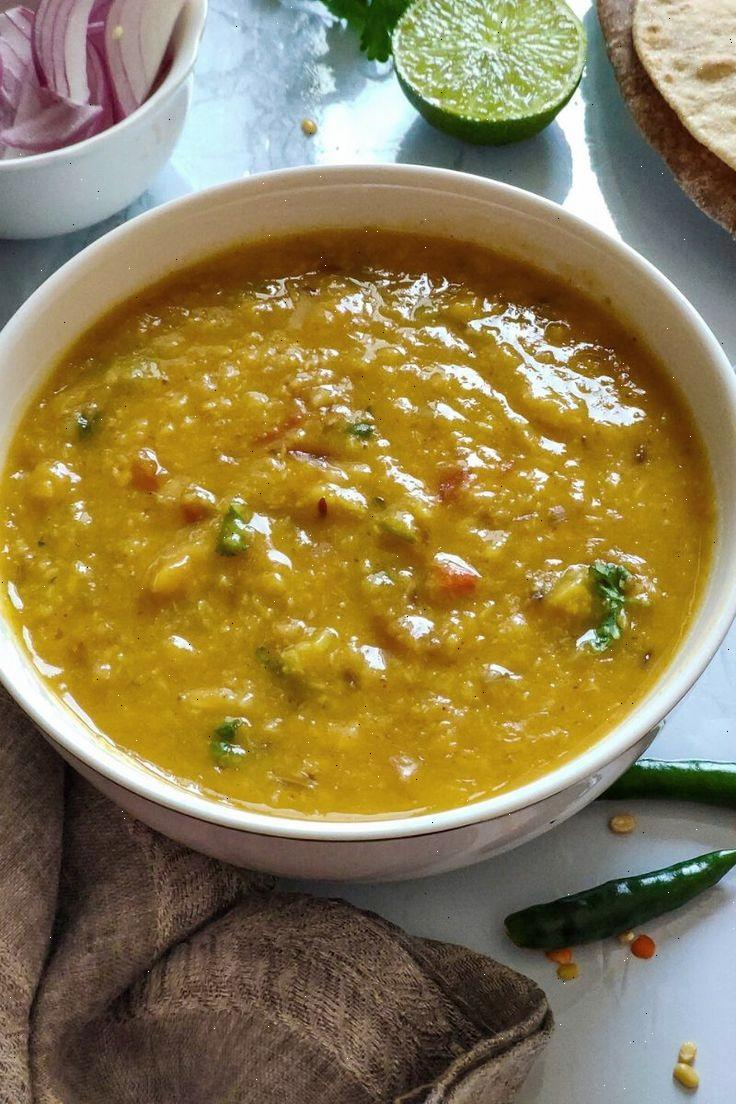daal: (8, 230, 716, 814)
salad: (0, 0, 196, 179)
